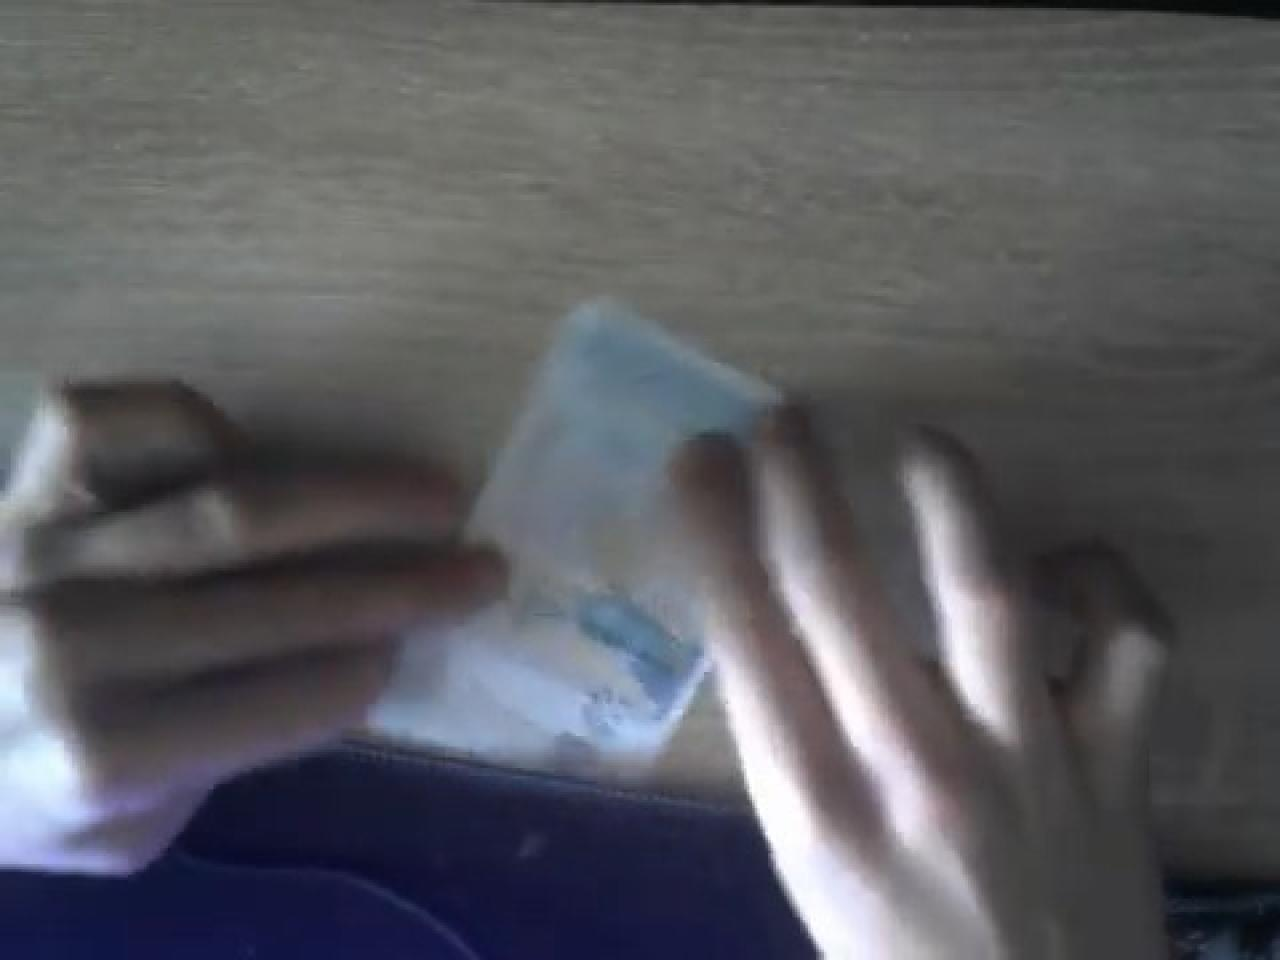20leva: (365, 290, 784, 787)
